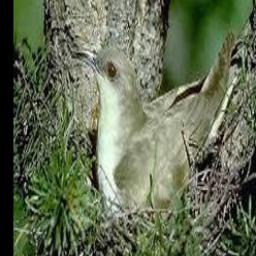Cuckoo: (70, 30, 233, 217)
